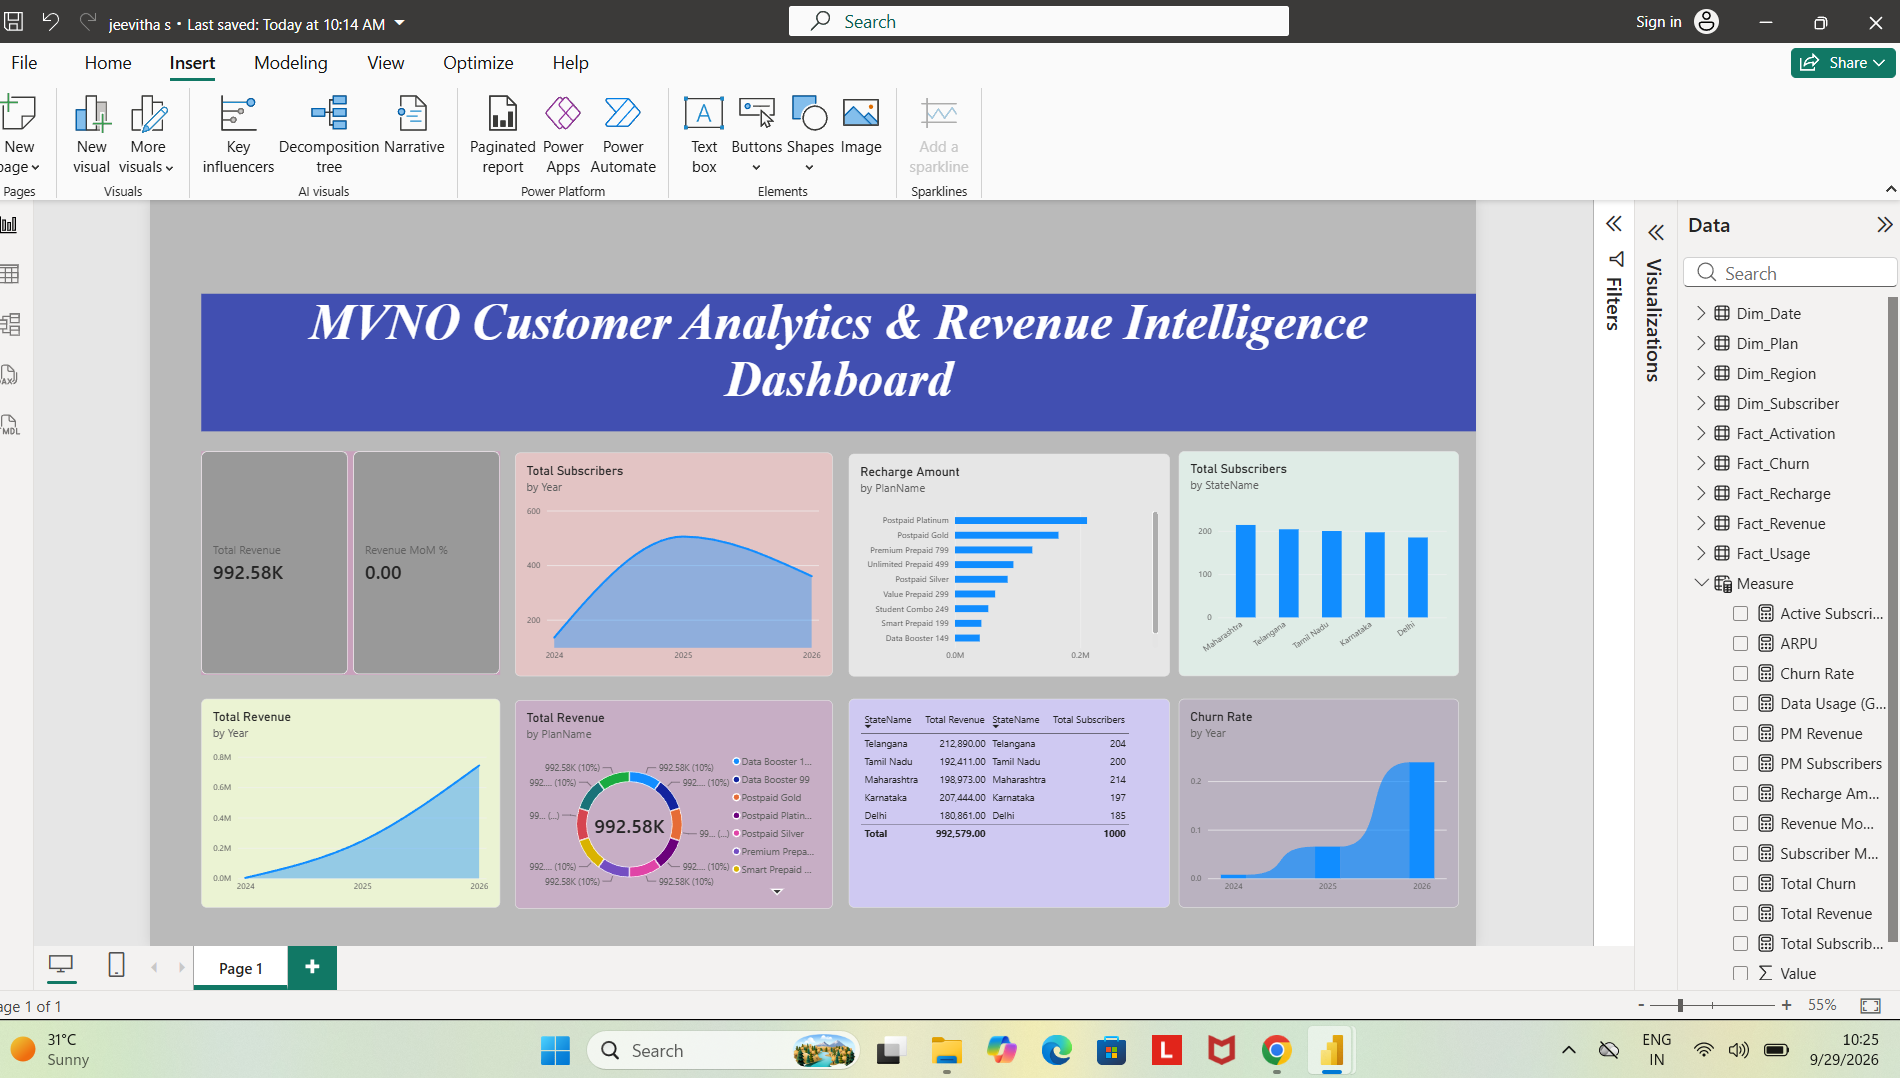

The dashboard page shown, as its layout file describes it:
{"tool":"powerbi","page":{"name":"Page 1","canvas":[1920,1080],"ordinal":0},"visuals":[{"type":"cardVisual","fields":{"Data":["Measure.Total Revenue","Measure.Revenue MoM %"]},"box":[74.2,363.7,432.5,323.9],"z":0},{"type":"areaChart","fields":{"Category":["Dim_Date.FullDate.Variation.Date Hierarchy.Year","Dim_Date.FullDate.Variation.Date Hierarchy.Quarter","Dim_Date.FullDate.Variation.Date Hierarchy.Month","Dim_Date.FullDate.Variation.Date Hierarchy.Day"],"Y":["Measure.Total Revenue"]},"box":[74.2,722.1,432.5,302.2],"z":1000},{"type":"areaChart","fields":{"Category":["Dim_Date.FullDate.Variation.Date Hierarchy.Year","Dim_Date.FullDate.Variation.Date Hierarchy.Quarter","Dim_Date.FullDate.Variation.Date Hierarchy.Month","Dim_Date.FullDate.Variation.Date Hierarchy.Day"],"Y":["Measure.Total Subscribers"]},"box":[528.4,365.6,459.7,323.9],"z":2000},{"type":"donutChart","fields":{"Category":["Dim_Plan.PlanName"],"Y":["Measure.Total Revenue"]},"box":[528.4,723.9,459.7,302.2],"z":3000},{"type":"clusteredBarChart","fields":{"Category":["Dim_Plan.PlanName"],"Y":["Measure.Recharge Amount"]},"box":[1011.6,367.4,465.1,322.1],"z":4000},{"type":"tableEx","fields":{"Values":["Dim_Region.StateName","Measure.Total Revenue","Dim_Region.StateName","Measure.Total Subscribers"]},"box":[1011.6,722.1,465.1,302.2],"z":5000},{"type":"ribbonChart","fields":{"Category":["Dim_Date.FullDate.Variation.Date Hierarchy.Year","Dim_Date.FullDate.Variation.Date Hierarchy.Month"],"Y":["Measure.Churn Rate"]},"box":[1489.4,722.1,405.4,302.2],"z":6000},{"type":"lineStackedColumnComboChart","fields":{"Category":["Dim_Region.StateName"],"Y":["Measure.Total Subscribers"]},"box":[1489.4,363.7,405.4,325.7],"z":7000},{"type":"textbox","box":[74.2,135.7,1845.9,199.1],"z":8000}]}

Visuals, with their boxes on the page's 1920x1080 design canvas (x1, y1, x2, y2). These are canvas units, not pixel positions in the 1900x1078 screenshot, which may show the page scaled, cropped or inside an application window:
cardVisual - Measure.Total Revenue x Measure.Revenue MoM %: [x1=74, y1=364, x2=507, y2=688]
areaChart - Dim_Date.FullDate.Variation.Date Hierarchy.Year x Dim_Date.FullDate.Variation.Date Hierarchy.Quarter: [x1=74, y1=722, x2=507, y2=1024]
areaChart - Dim_Date.FullDate.Variation.Date Hierarchy.Year x Dim_Date.FullDate.Variation.Date Hierarchy.Quarter: [x1=528, y1=366, x2=988, y2=690]
donutChart - Dim_Plan.PlanName x Measure.Total Revenue: [x1=528, y1=724, x2=988, y2=1026]
clusteredBarChart - Dim_Plan.PlanName x Measure.Recharge Amount: [x1=1012, y1=367, x2=1477, y2=690]
tableEx - Dim_Region.StateName x Measure.Total Revenue: [x1=1012, y1=722, x2=1477, y2=1024]
ribbonChart - Dim_Date.FullDate.Variation.Date Hierarchy.Year x Dim_Date.FullDate.Variation.Date Hierarchy.Month: [x1=1489, y1=722, x2=1895, y2=1024]
lineStackedColumnComboChart - Dim_Region.StateName x Measure.Total Subscribers: [x1=1489, y1=364, x2=1895, y2=689]
textbox: [x1=74, y1=136, x2=1920, y2=335]
